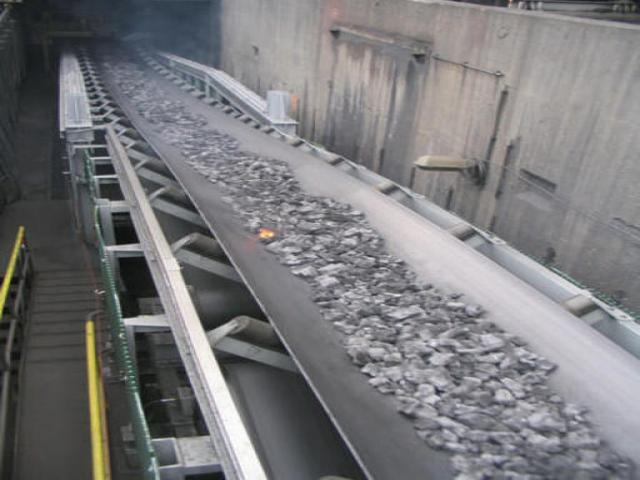conveyor: (61, 37, 640, 480)
